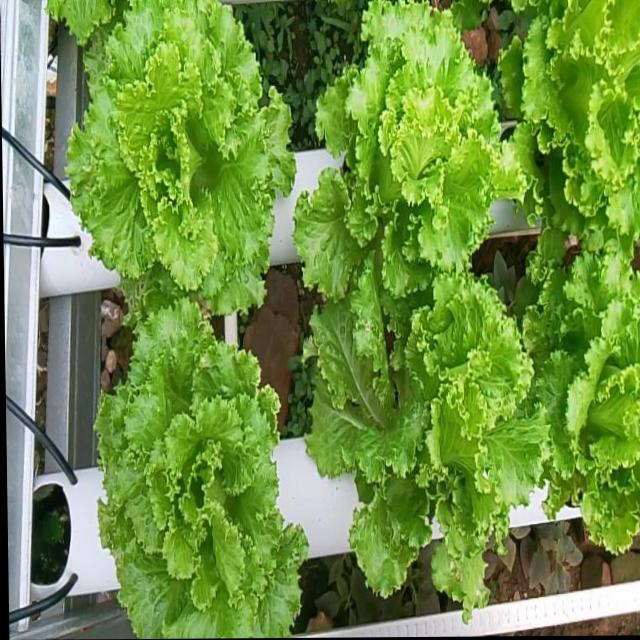Mature: (310, 272, 552, 608), (60, 0, 301, 310), (100, 291, 312, 638), (299, 0, 520, 317), (506, 0, 640, 255), (530, 252, 640, 554)
